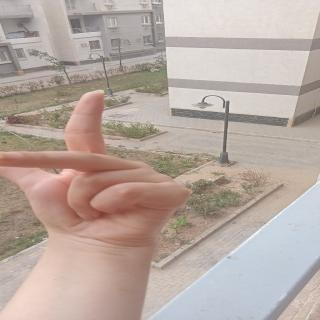DHAA: (0, 78, 200, 246)
